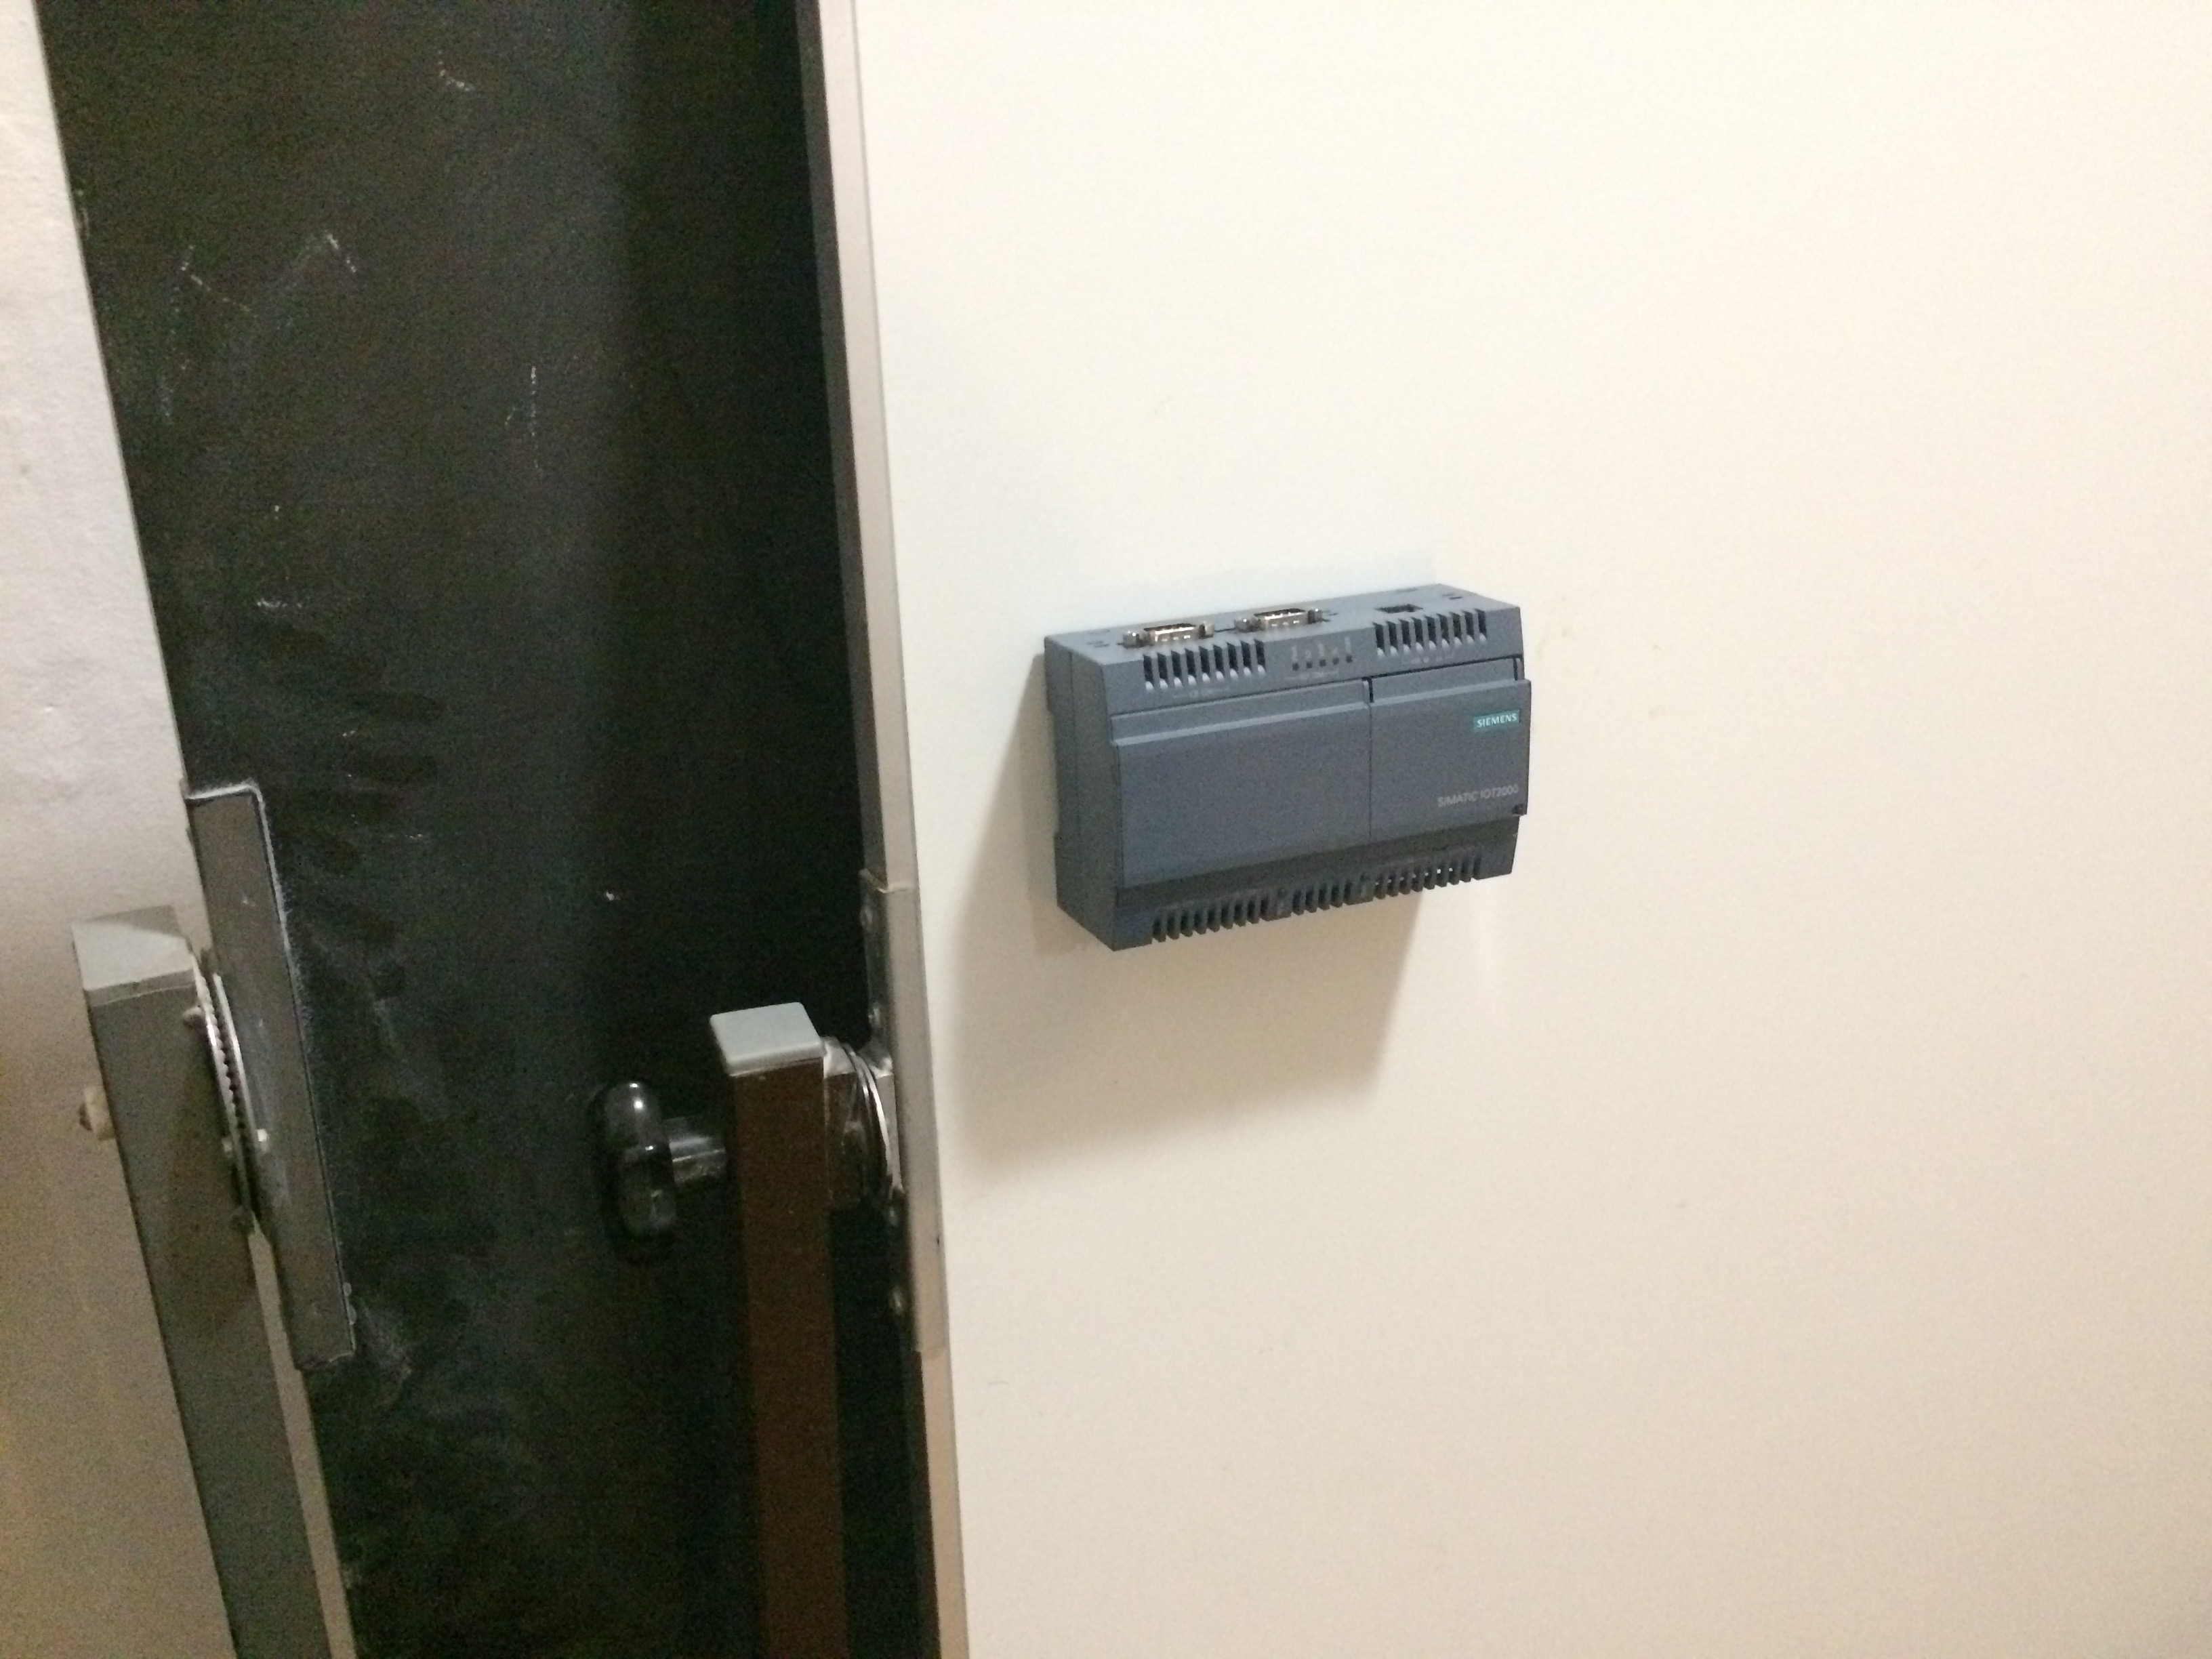iot2000: (1042, 580, 1536, 957)
